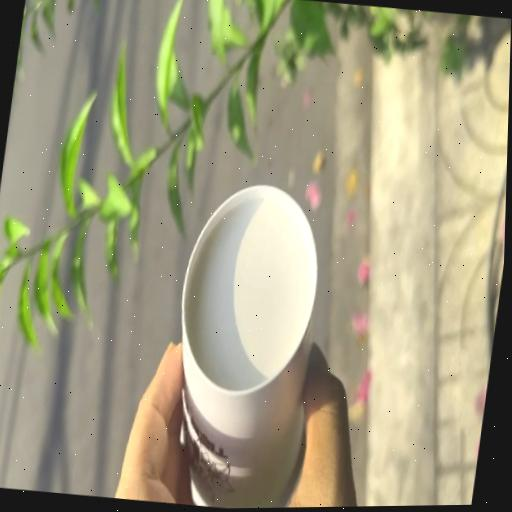Ly_giay: (182, 185, 317, 508)
